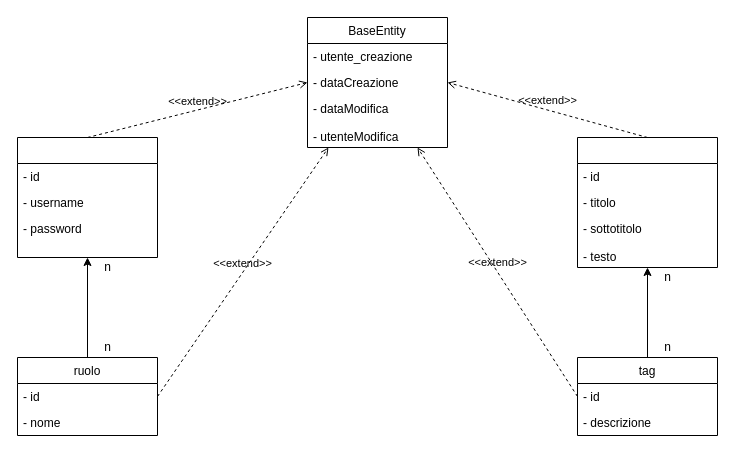
The diagram is 735 pixels wide and 456 high, and some of its shapes have lost their labels. Each missing label, with the box of its shape:
appunti: (576, 136, 718, 268)
utente: (16, 136, 158, 258)
